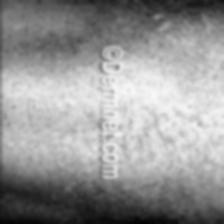Toxin: (130, 101, 210, 149)
